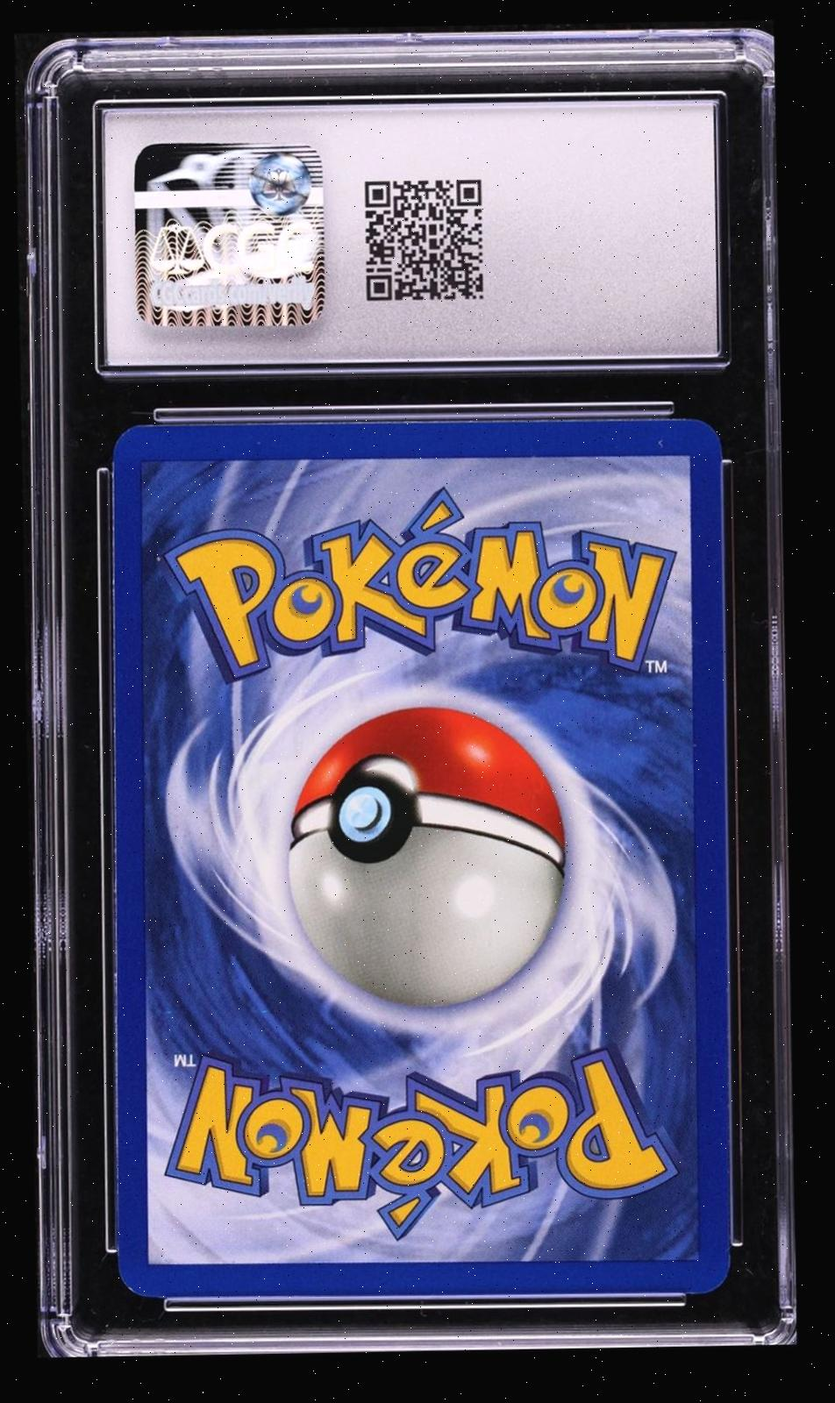card-2UtV: (112, 418, 730, 1298)
